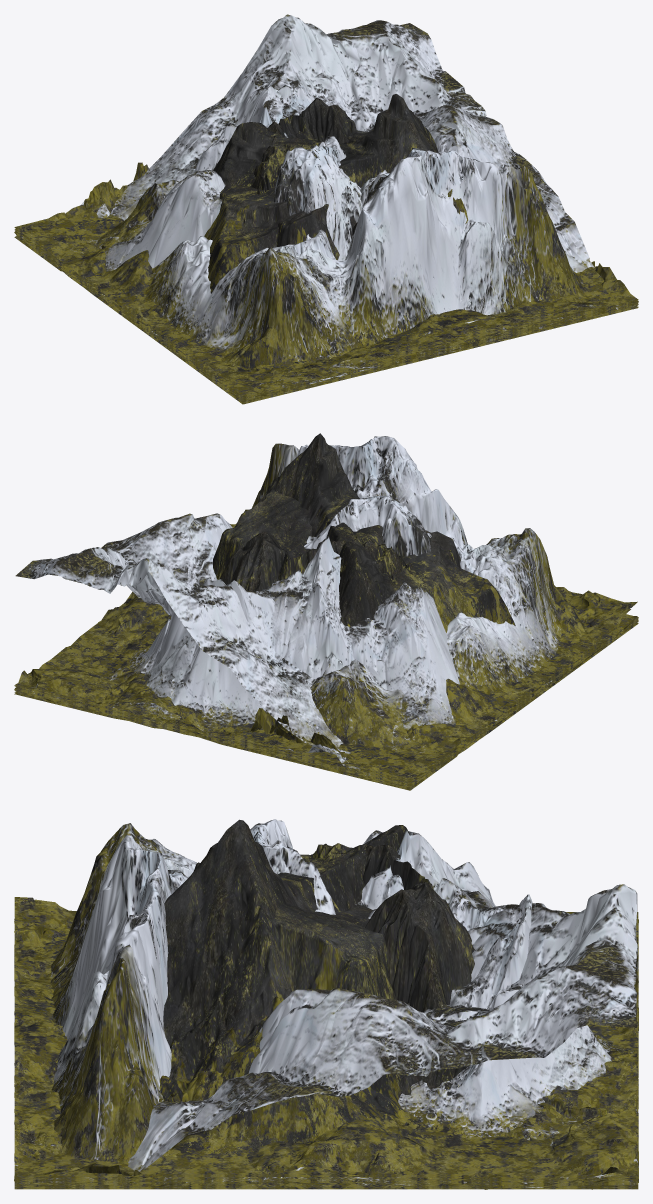
File: mountain-lab.glb
3 renders of one model, top to bottom at view 1: azimuth 30°, elevation 25°; view 2: azimuth 150°, elevation 25°; view 3: azimuth 270°, elevation 25°, orthographic. The views are drawn at different scales.
Visible parts, largest first — view 1: SM_Mountain_05, SM_Mountain_01, SM_Mountain_02, SM_Iceland_Mountain_02, SM_Mountain_03, SM_Iceland_Plateus_01, SM_Mountain_07, SM_Iceland_Eroded_Mountain, SM_Mountain_Plateu_01, SM_Mountain_06, SM_Mountain_09, SM_Iceland_Crest; view 2: SM_Iceland_Mountain_02, SM_Mountain_05, SM_Mountain_01, SM_Mountain_02, SM_Iceland_Plateus_01, SM_Mountain_03, SM_Mountain_Plateu_01, SM_Iceland_Eroded_Mountain, SM_Mountain_07, SM_Mountain_06, SM_Iceland_Crest, SM_Mountain_09; view 3: SM_Mountain_01, SM_Mountain_02, SM_Mountain_05, SM_Iceland_Plateus_01, SM_Iceland_Mountain_02, SM_Iceland_Eroded_Mountain, SM_Mountain_Plateu_01, SM_Mountain_03, SM_Mountain_07, SM_Mountain_06, SM_Iceland_Crest, SM_Mountain_09.
Part boxes in pixels (x1,y1,x2,y2): SM_Mountain_05: [14, 148, 638, 400]; SM_Mountain_01: [16, 14, 635, 402]; SM_Mountain_02: [14, 94, 638, 400]; SM_Iceland_Mountain_02: [15, 85, 638, 399]; SM_Mountain_03: [14, 214, 638, 396]; SM_Iceland_Plateus_01: [15, 162, 638, 383]; SM_Mountain_07: [15, 136, 638, 401]; SM_Iceland_Eroded_Mountain: [15, 97, 638, 402]; SM_Mountain_Plateu_01: [19, 128, 638, 397]; SM_Mountain_06: [14, 228, 638, 398]; SM_Mountain_09: [16, 203, 637, 398]; SM_Iceland_Crest: [14, 237, 638, 404]; SM_Iceland_Mountain_02: [15, 536, 638, 786]; SM_Mountain_05: [15, 436, 638, 785]; SM_Mountain_01: [15, 513, 622, 789]; SM_Mountain_02: [14, 433, 637, 785]; SM_Iceland_Plateus_01: [18, 524, 637, 783]; SM_Mountain_03: [15, 585, 637, 780]; SM_Mountain_Plateu_01: [14, 490, 638, 786]; SM_Iceland_Eroded_Mountain: [14, 532, 638, 789]; SM_Mountain_07: [14, 495, 638, 784]; SM_Mountain_06: [14, 523, 638, 782]; SM_Iceland_Crest: [14, 623, 638, 790]; SM_Mountain_09: [15, 533, 637, 786]; SM_Mountain_01: [18, 884, 637, 1185]; SM_Mountain_02: [14, 819, 638, 1189]; SM_Mountain_05: [14, 823, 638, 1187]; SM_Iceland_Plateus_01: [14, 897, 638, 1185]; SM_Iceland_Mountain_02: [14, 830, 638, 1186]; SM_Iceland_Eroded_Mountain: [14, 843, 638, 1187]; SM_Mountain_Plateu_01: [14, 862, 638, 1189]; SM_Mountain_03: [14, 912, 638, 1185]; SM_Mountain_07: [15, 819, 638, 1188]; SM_Mountain_06: [14, 917, 638, 1187]; SM_Iceland_Crest: [14, 1183, 638, 1189]; SM_Mountain_09: [14, 1073, 638, 1186].
Size of the model in its own units: 1928 by 900 by 1930.
Materials: 4 (4 with a texture image).
